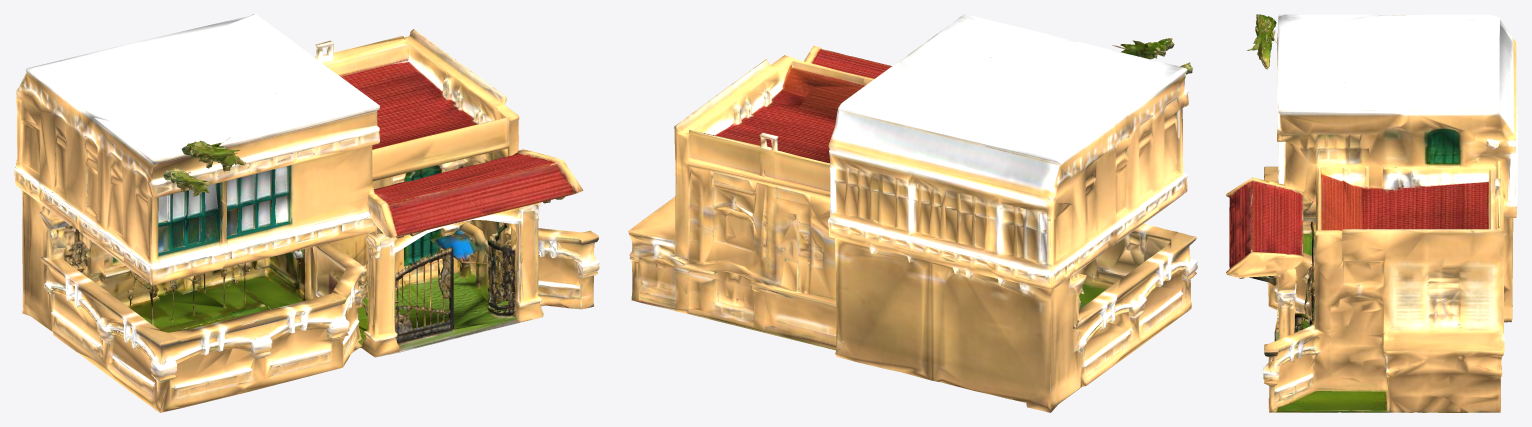
Rendered from thptnq.glb.
3 renders of one model, left to right at view 1: azimuth 30°, elevation 25°; view 2: azimuth 150°, elevation 25°; view 3: azimuth 270°, elevation 25°, orthographic. The views are drawn at different scales.
Visible parts, largest first — view 1: Mesh_0; view 2: Mesh_0; view 3: Mesh_0.
Boxes of the visible parts, x1=… form: Mesh_0: x1=14, y1=14, x2=599, y2=412; Mesh_0: x1=628, y1=14, x2=1197, y2=412; Mesh_0: x1=1226, y1=14, x2=1517, y2=412.
Bounding box in the file's own units: 1.91 × 1.11 × 1.27.
1 material, 1 textured.
